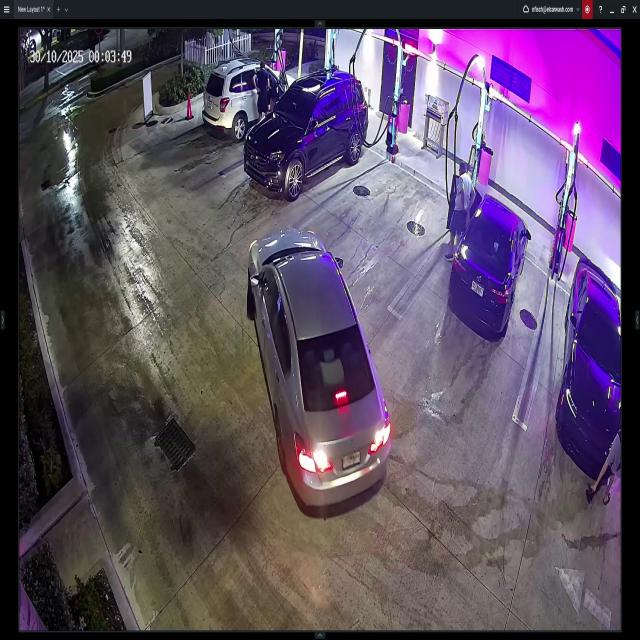Car: (250, 228, 393, 508), (244, 66, 368, 197), (557, 259, 622, 478), (449, 178, 531, 336), (201, 60, 297, 137)
